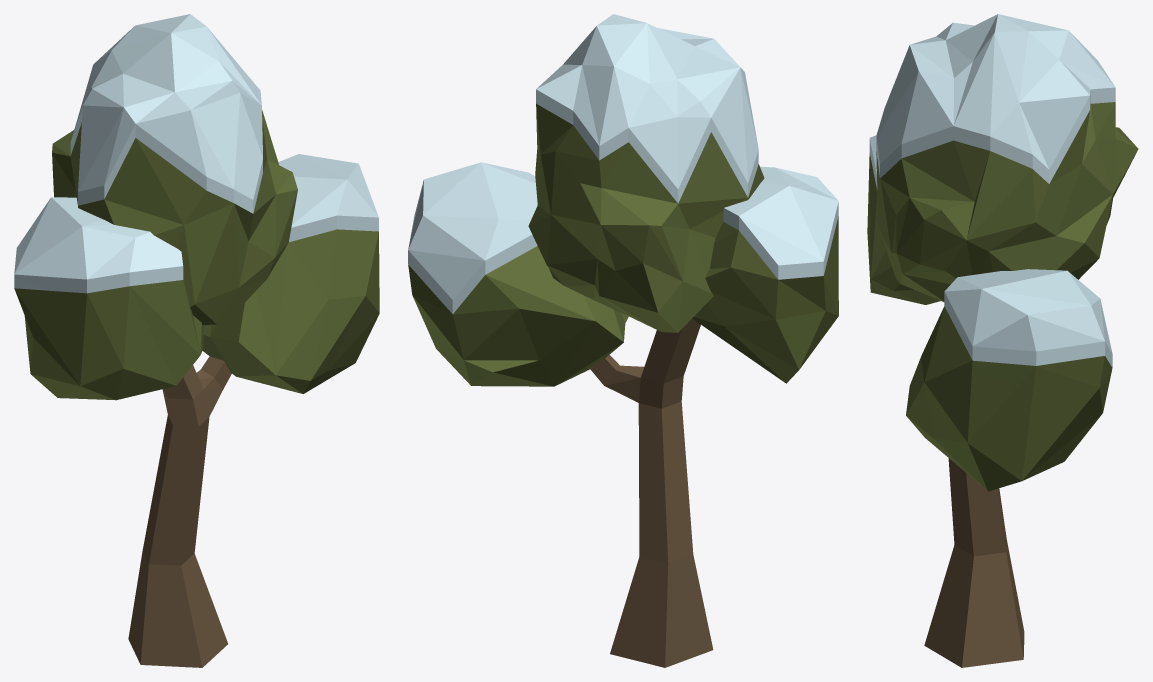
The model's file is SM_Env_Tree_01_Snow.gltf.
3 renders of one model, left to right at view 1: azimuth 30°, elevation 25°; view 2: azimuth 150°, elevation 25°; view 3: azimuth 270°, elevation 25°, orthographic. The views are drawn at different scales.
Parts seen in each view (by area): view 1: SM_Env_Tree_01_Snow; view 2: SM_Env_Tree_01_Snow; view 3: SM_Env_Tree_01_Snow.
Boxes of the visible parts, bbox=[...] form: SM_Env_Tree_01_Snow: bbox=[14, 14, 379, 667]; SM_Env_Tree_01_Snow: bbox=[408, 14, 838, 667]; SM_Env_Tree_01_Snow: bbox=[867, 14, 1138, 667].
Size of the model in its own units: 2.32 by 3.63 by 1.41.
1 material, 1 textured.
